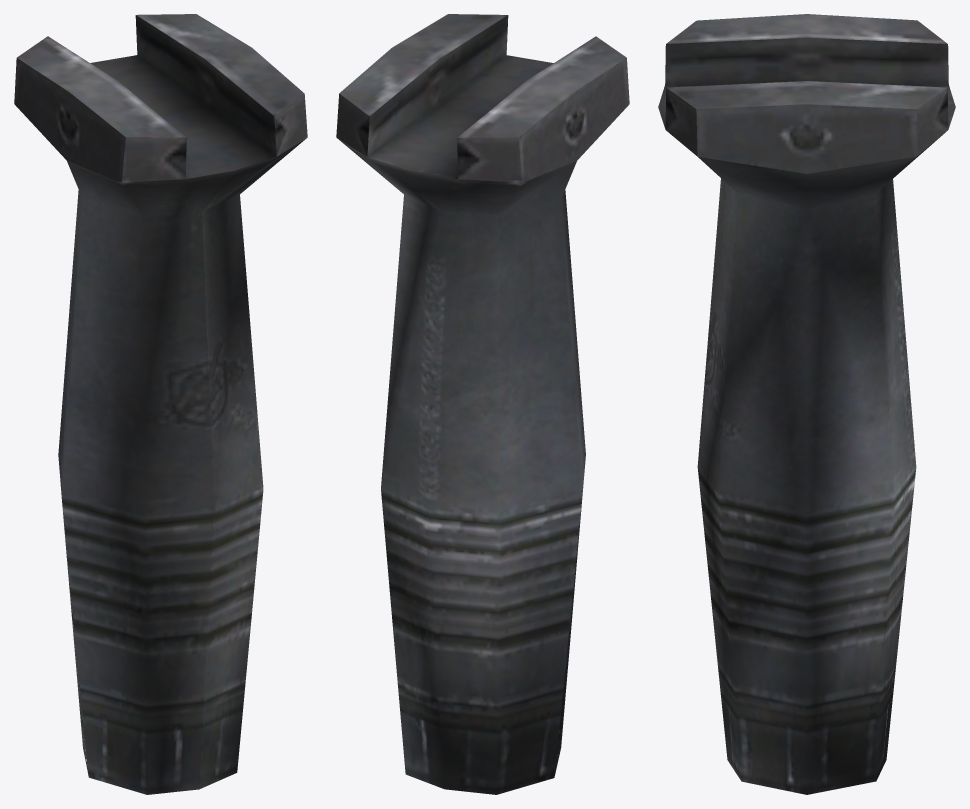
The model's file is Assault_Rifle_bq_wb_01_Grip_Main_(000630).glb.
3 views of the same model, side by side, from view 1: azimuth 30°, elevation 25°; view 2: azimuth 150°, elevation 25°; view 3: azimuth 270°, elevation 25° (orthographic).
Parts seen in each view (by area): view 1: bq_wb_01; view 2: bq_wb_01; view 3: bq_wb_01.
Part boxes in pixels (box(x1,y1,x2,y2)): bq_wb_01: box(14, 14, 307, 794); bq_wb_01: box(336, 14, 629, 794); bq_wb_01: box(658, 14, 955, 794).
Size of the model in its own units: 0.0453 by 0.1521 by 0.0585.
1 material, 1 textured.
